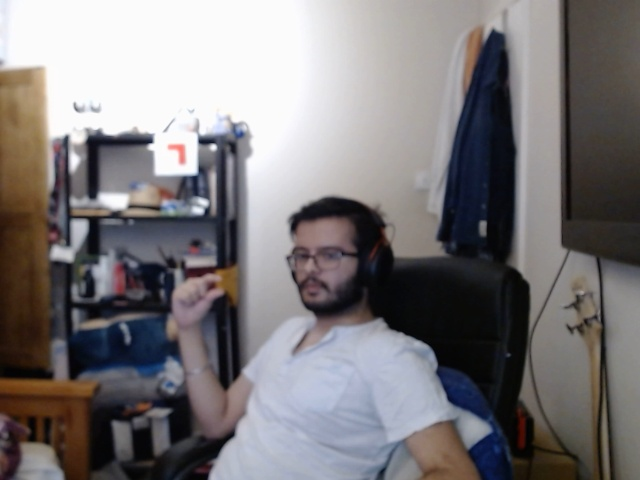Small: (151, 270, 235, 335)
